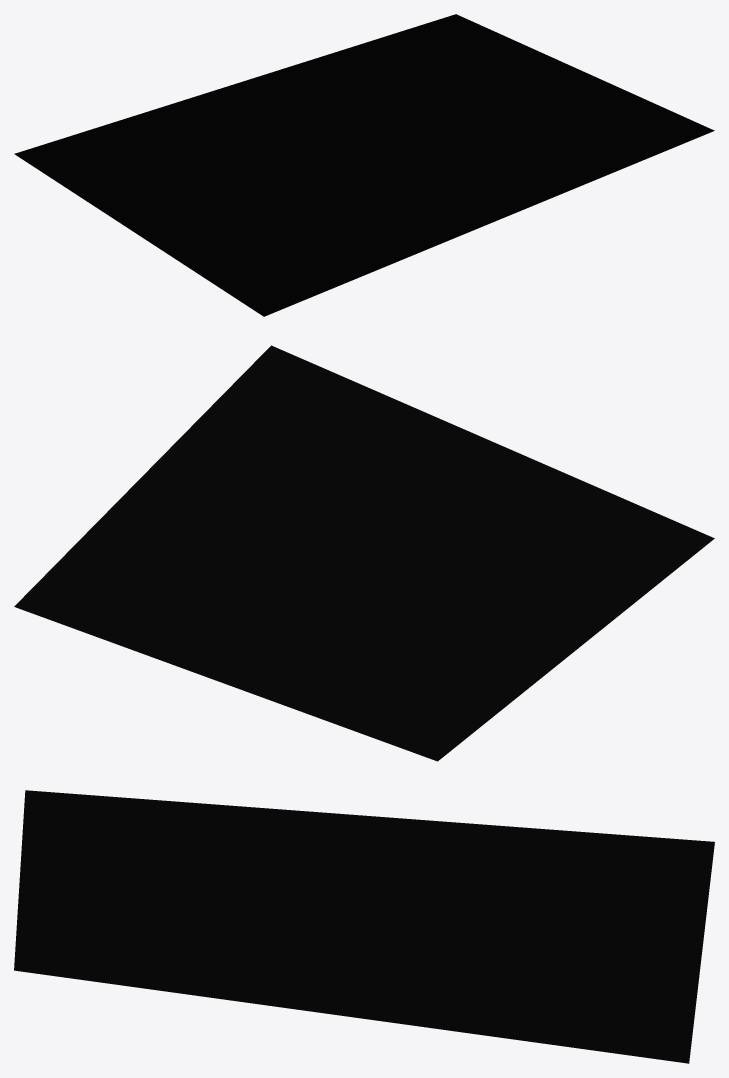
The picture shows the model from 3 angles, top to bottom: view 1: azimuth 30°, elevation 25°; view 2: azimuth 150°, elevation 25°; view 3: azimuth 270°, elevation 25°; orthographic projection. The views are drawn at different scales.
Parts seen in each view (by area): view 1: Joint_0_Object_0; view 2: Joint_0_Object_0; view 3: Joint_0_Object_0.
Part boxes in pixels (<box>): Joint_0_Object_0: <box>14,14,714,316</box>; Joint_0_Object_0: <box>14,345,714,761</box>; Joint_0_Object_0: <box>14,790,714,1063</box>.
Size of the model in its own units: 408 by 98.82 by 423.
1 material, 1 textured.
